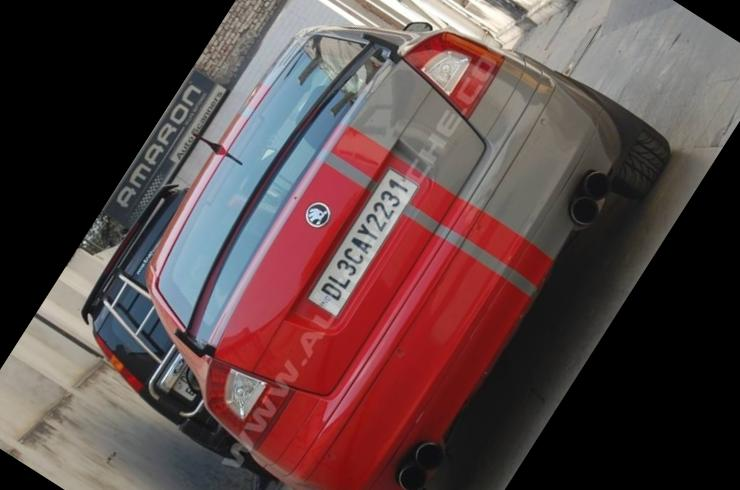plate: (301, 157, 430, 319)
